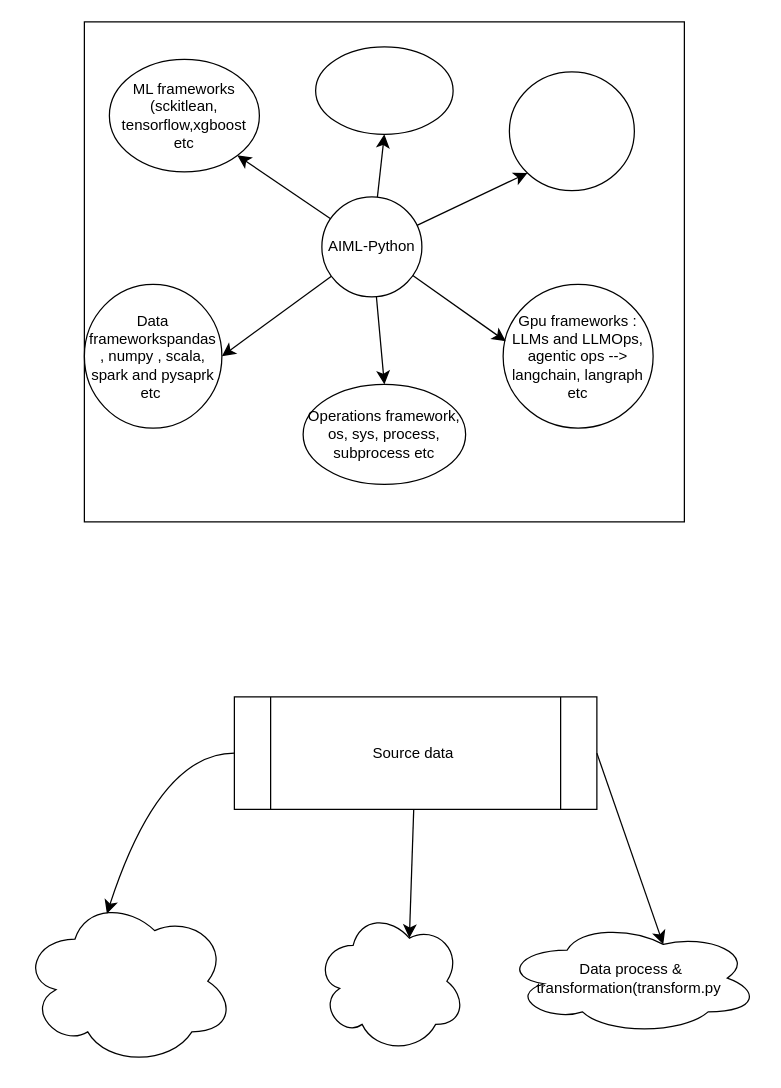
Image size: 781x1088. Some labels were removed from this diagram. The shapes that lost their labels are listed below. From the top down, each one's centre as x and y in pixels, then its label:
At point 383,90: "AIML Pipelines Frameworks".
At point 571,131: "Python objects(dict, str, list, methods and classes etc".
At point 127,981: "get the data and inspect(inspec.py)".
At point 390,980: "Data clearning (clean.py)".
